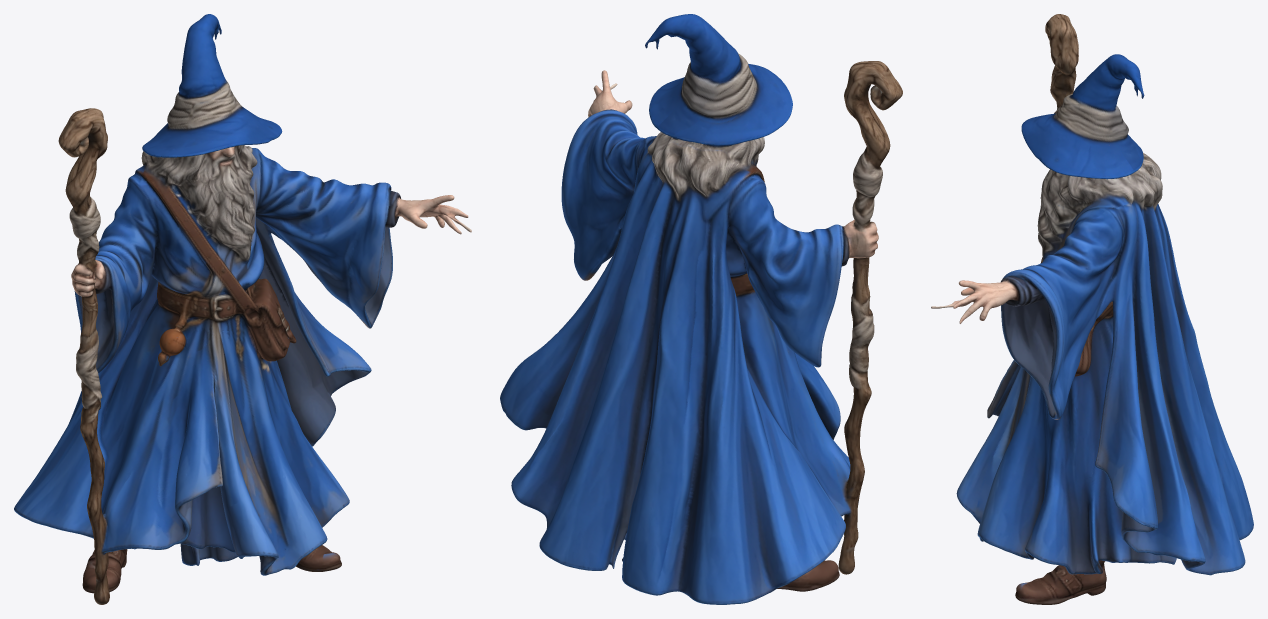
The model's file is blue-wizard.glb.
3 views of the same model, side by side, from view 1: azimuth 30°, elevation 25°; view 2: azimuth 150°, elevation 25°; view 3: azimuth 270°, elevation 25° (orthographic). The views are drawn at different scales.
Bounding box in the file's own units: 1.31 × 1.9 × 1.09.
Materials: 1 (1 with a texture image).
